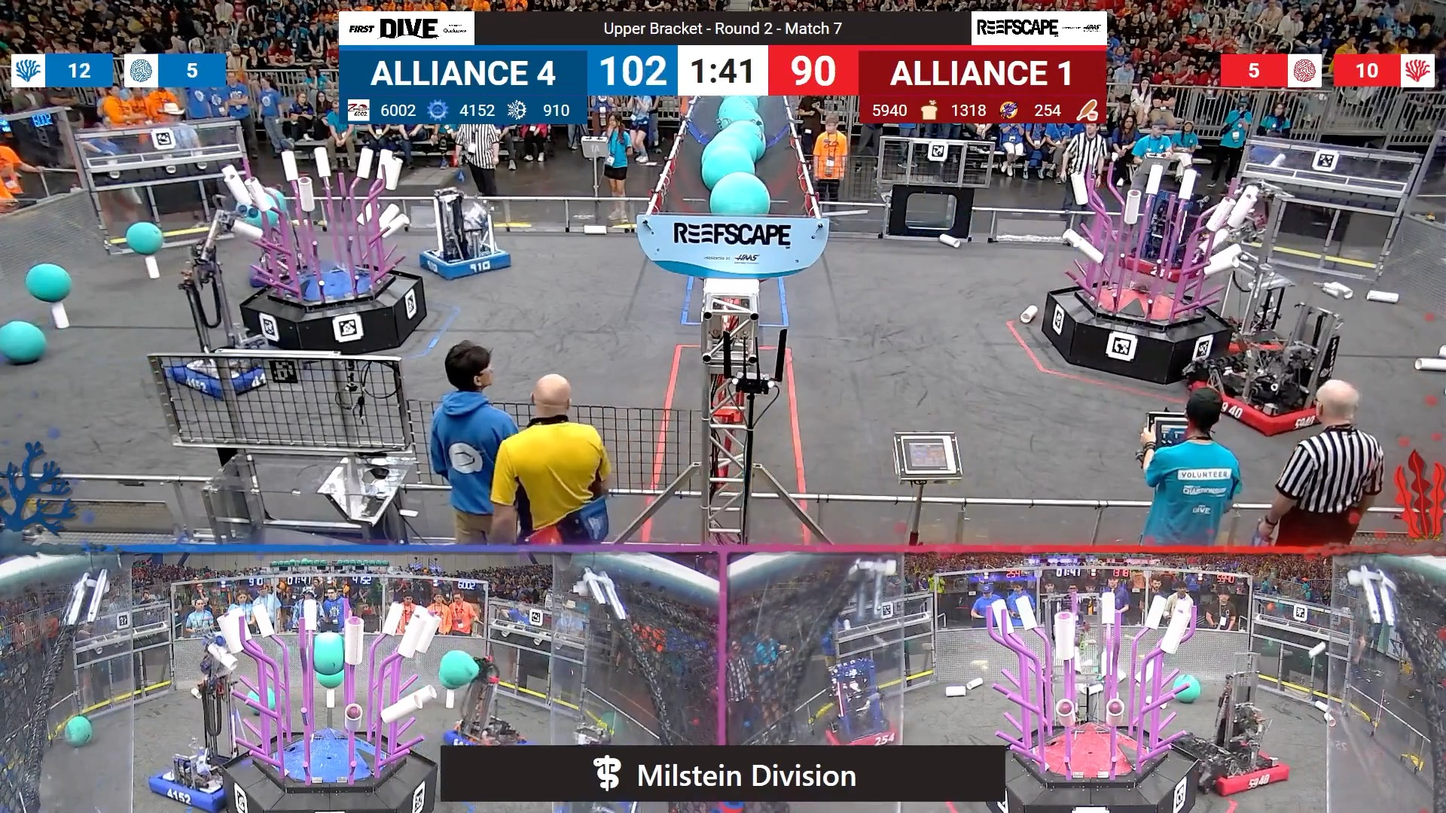bumpers: (1186, 369, 1352, 440), (1175, 742, 1293, 798), (163, 346, 283, 400), (143, 755, 246, 813), (410, 245, 518, 283), (436, 719, 534, 748), (818, 721, 903, 750)
